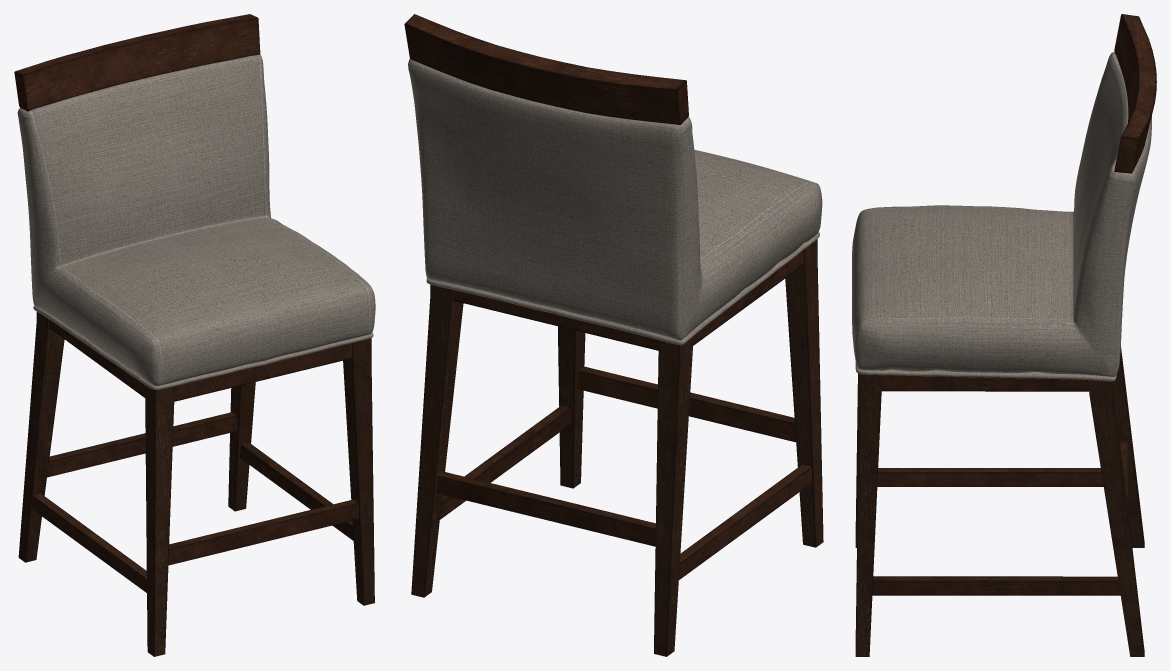
File: burke_wood_counter_stool.glb
3 renders of one model, left to right at view 1: azimuth 30°, elevation 25°; view 2: azimuth 150°, elevation 25°; view 3: azimuth 270°, elevation 25°, orthographic. The views are drawn at different scales.
Parts seen in each view (by area): view 1: RootNode; view 2: RootNode; view 3: RootNode.
Boxes of the visible parts, left/top/right/bottom form: RootNode: left=14, top=14, right=375, bottom=656; RootNode: left=404, top=14, right=823, bottom=656; RootNode: left=852, top=14, right=1156, bottom=656.
Size of the model in its own units: 0.5117 by 1.01 by 0.5306.
1 material, 1 textured.
